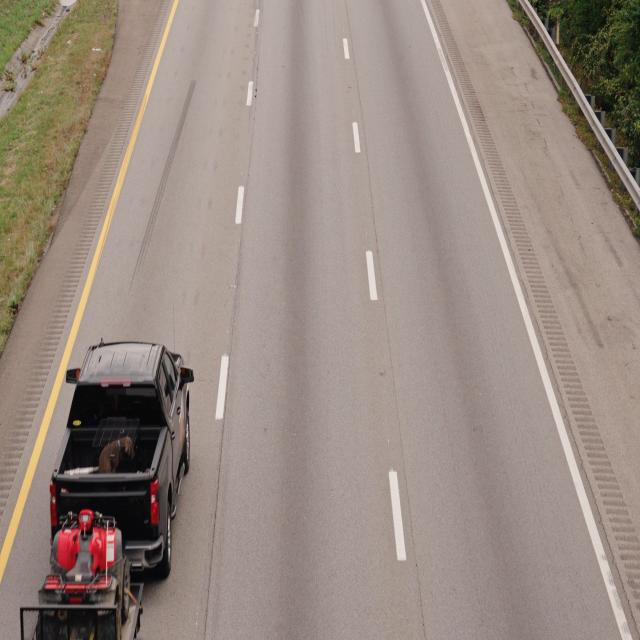Car: (21, 333, 198, 640)
